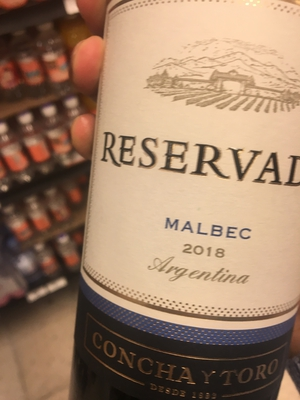reservado malbec: (70, 5, 297, 400)
